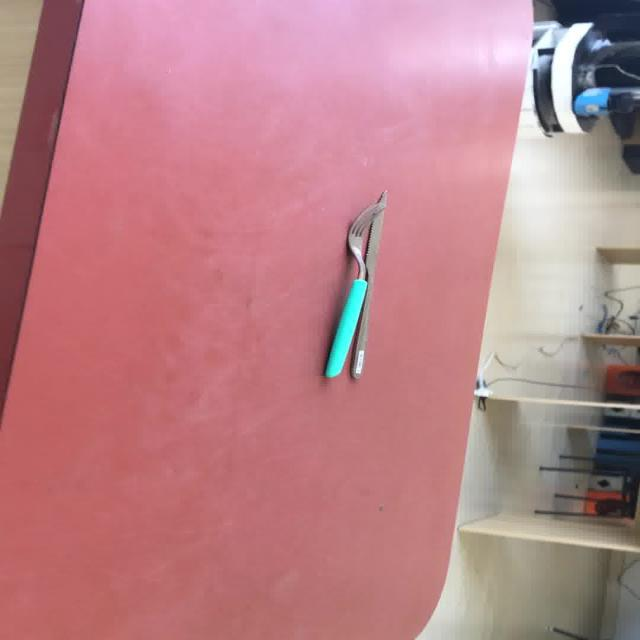fork: (322, 189, 388, 378), (345, 189, 387, 378)
knife fork: (322, 189, 388, 379)
